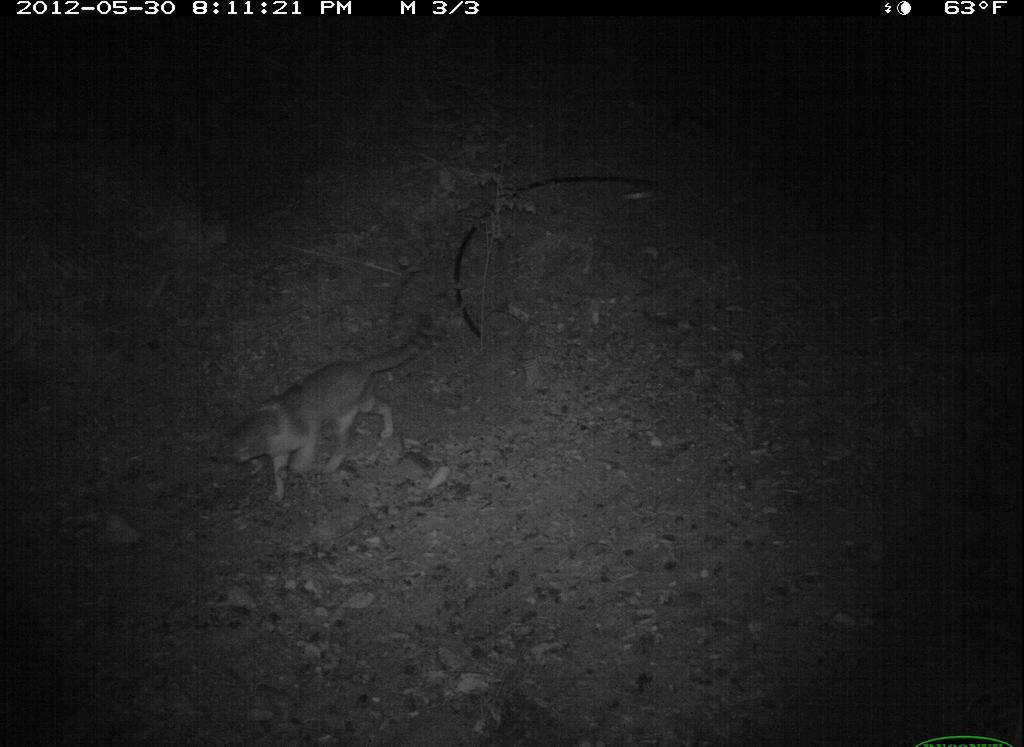cat: (209, 326, 437, 528)
